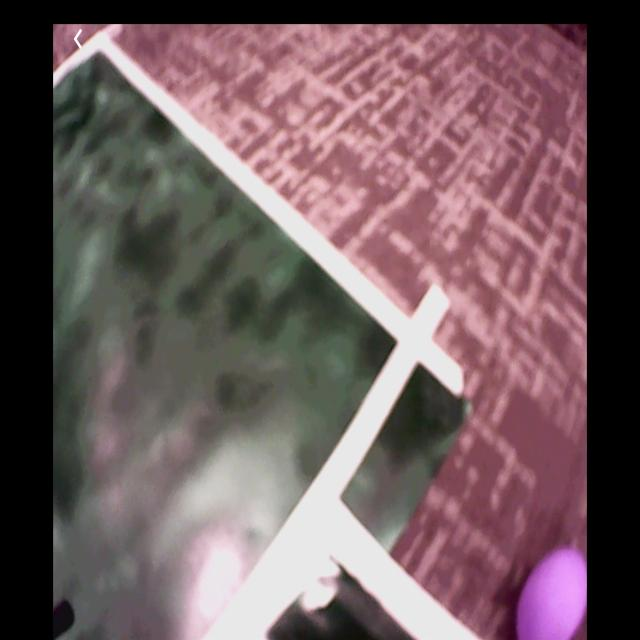ball: (517, 550, 588, 640)
